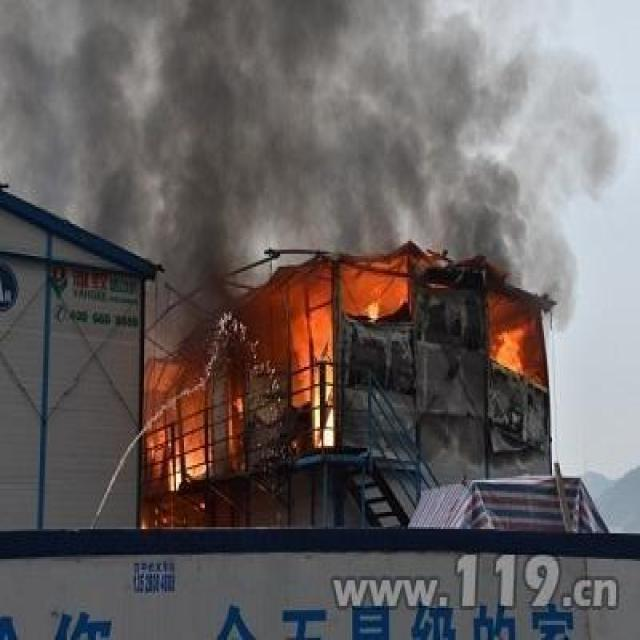Fire: (154, 438, 206, 487), (309, 360, 337, 448), (492, 326, 524, 378), (364, 291, 382, 328)
Smoke: (0, 0, 622, 321)
